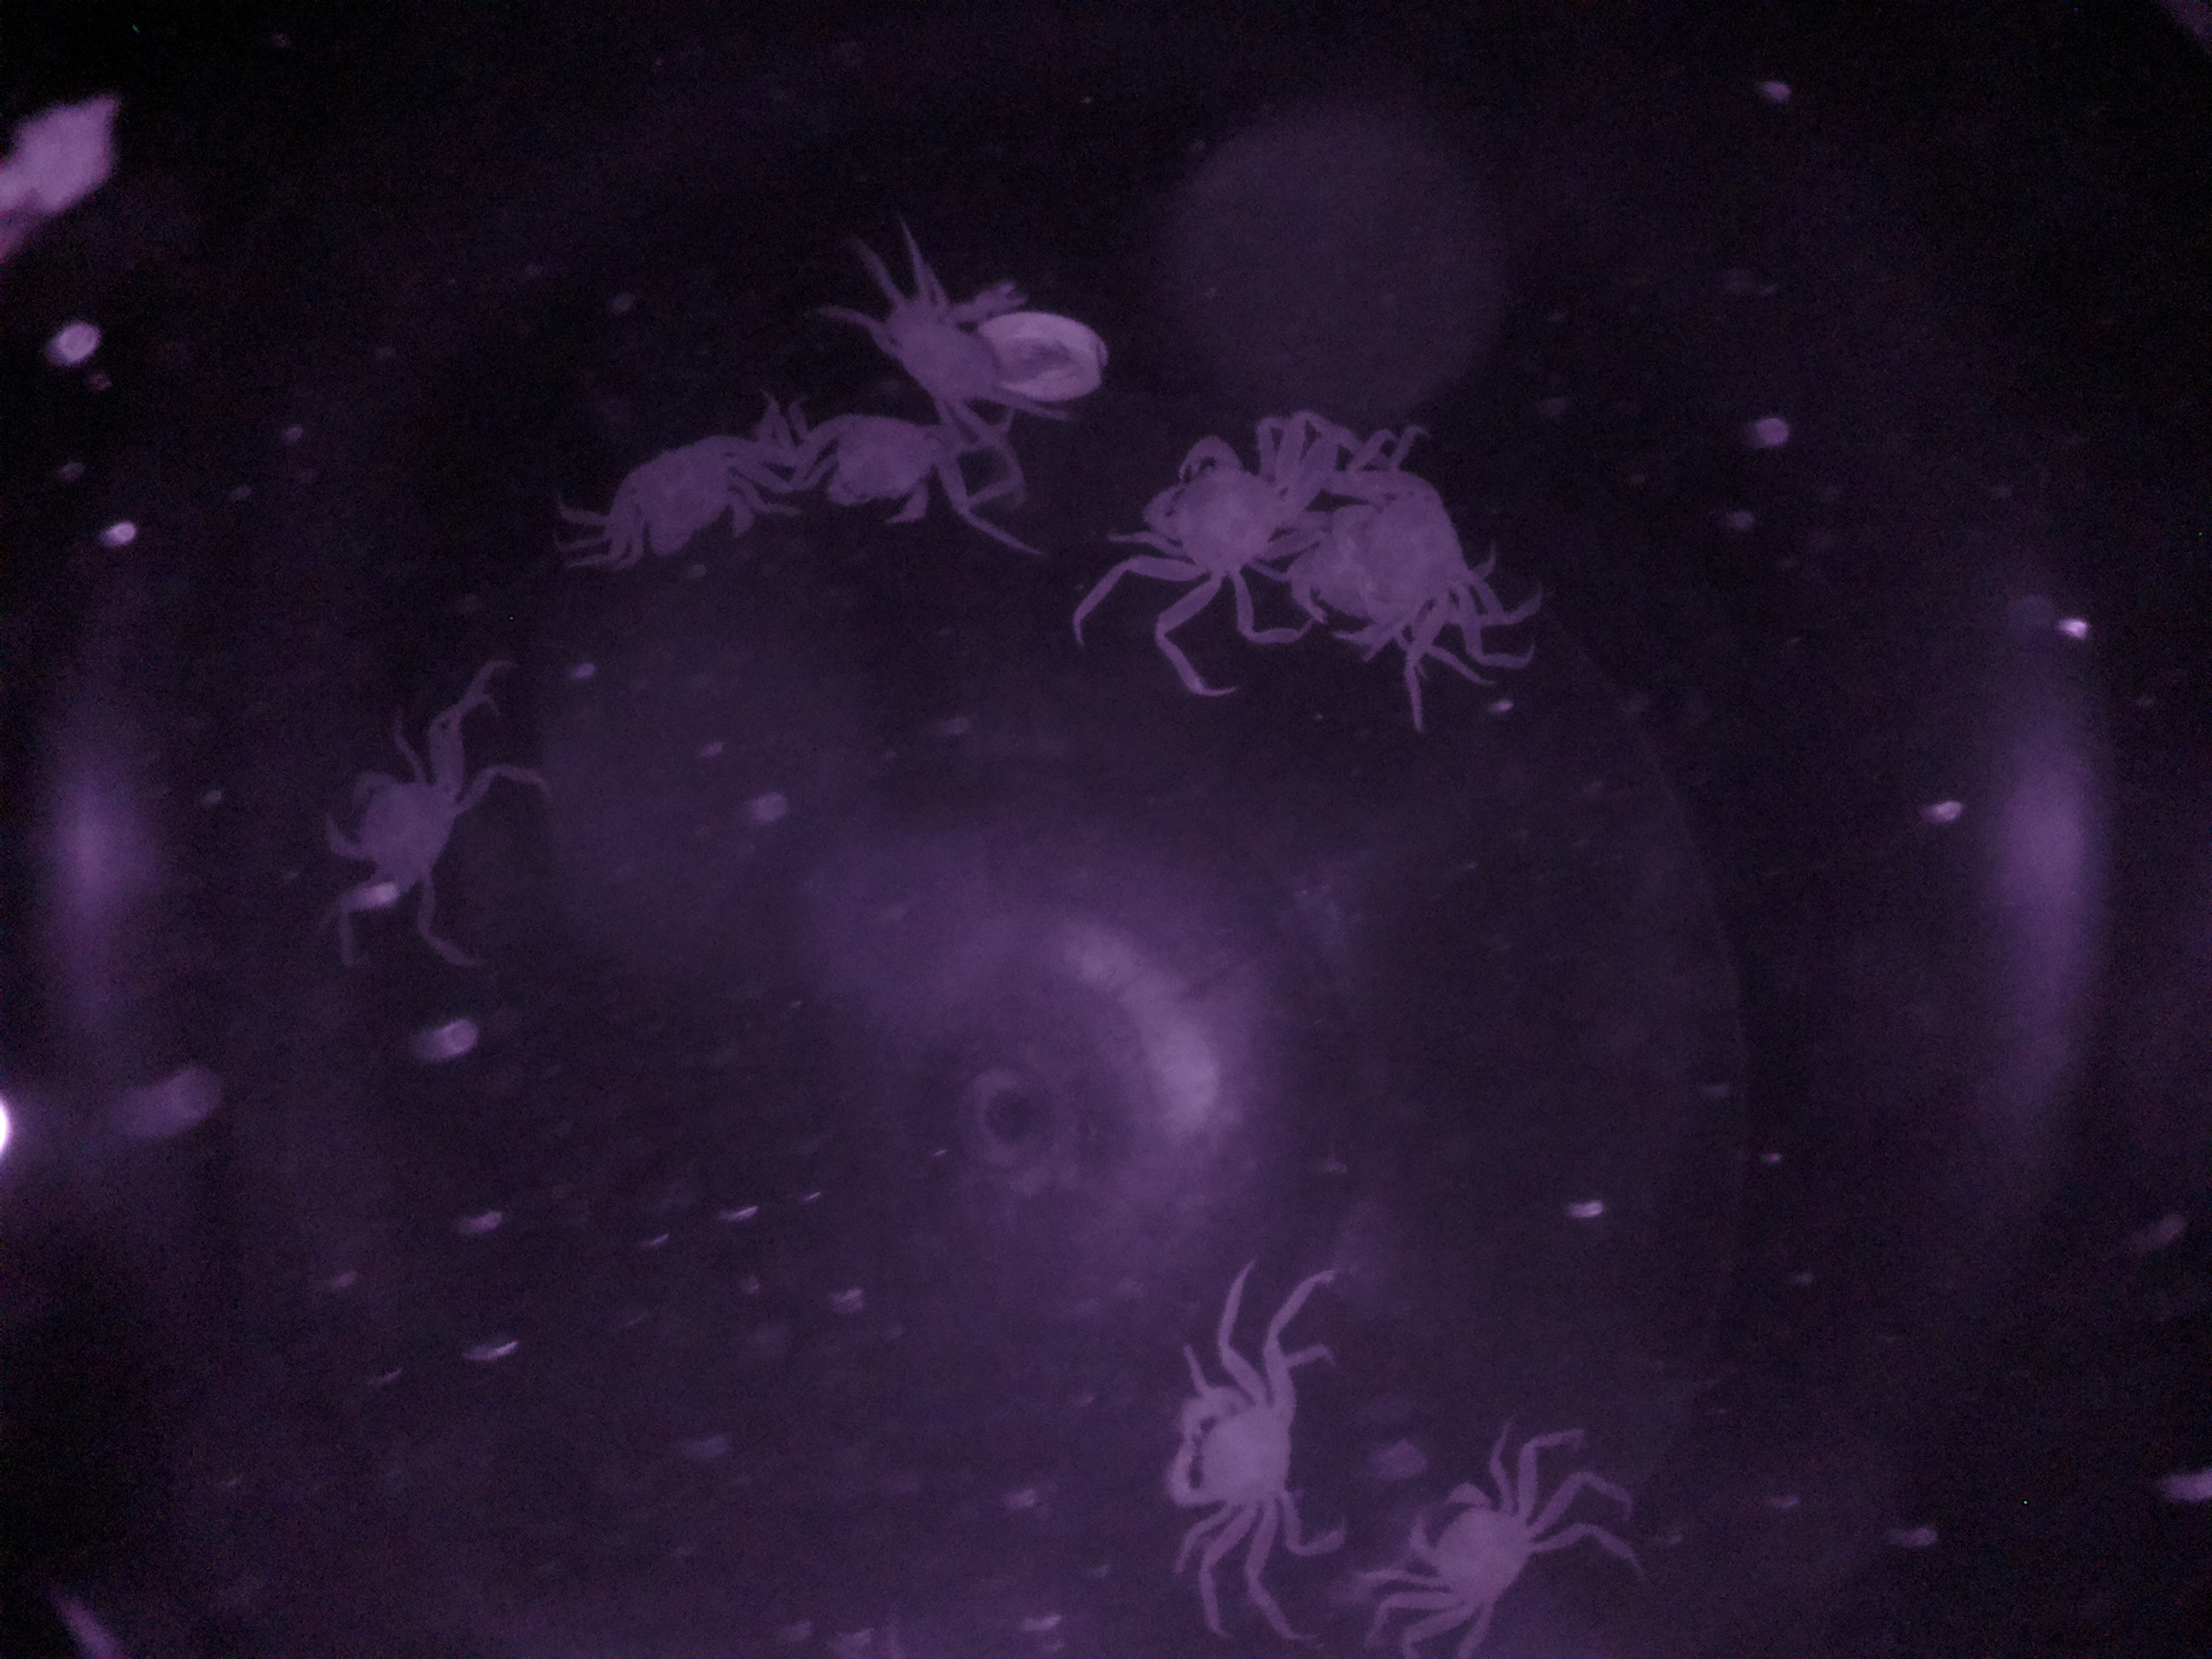Crab: (1096, 399, 1320, 627), (1146, 1298, 1317, 1584), (577, 410, 819, 594), (305, 742, 521, 943), (1362, 1438, 1559, 1635)
